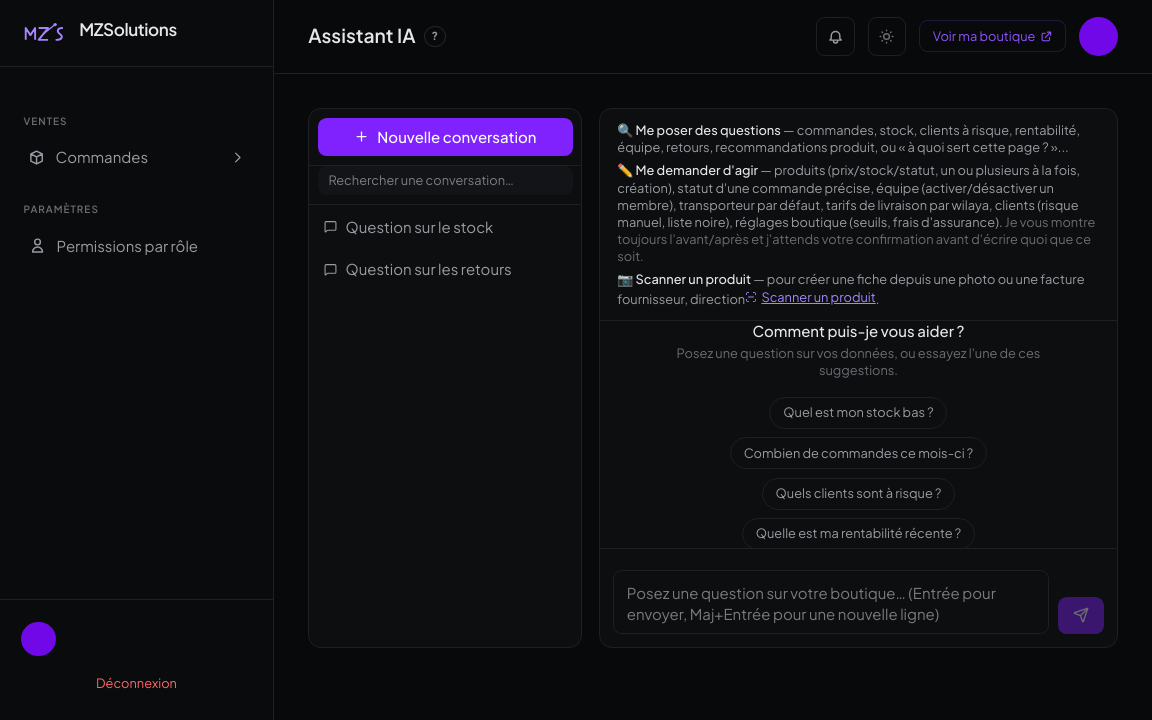
AIAssistantPage › filtre les conversations par titre via la recherche
(page scrolled)
Expected: the text "Question sur le stock" is shown, [346,216,493,237]
In the field with placeholder "Rechercher une conversation…": point(445, 181) [318,166,572,196], type "retours"
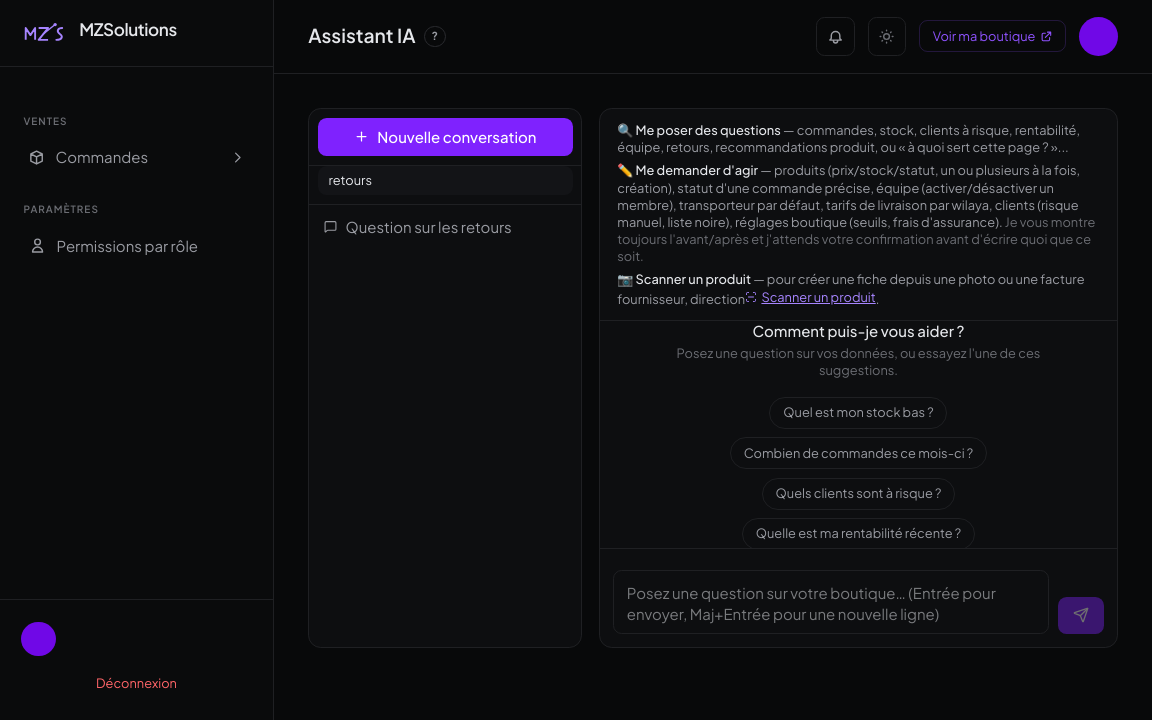
Expected: the text "Question sur les retours" is shown, [346,216,512,237]
Expected: the button "Question sur le stock" is gone
